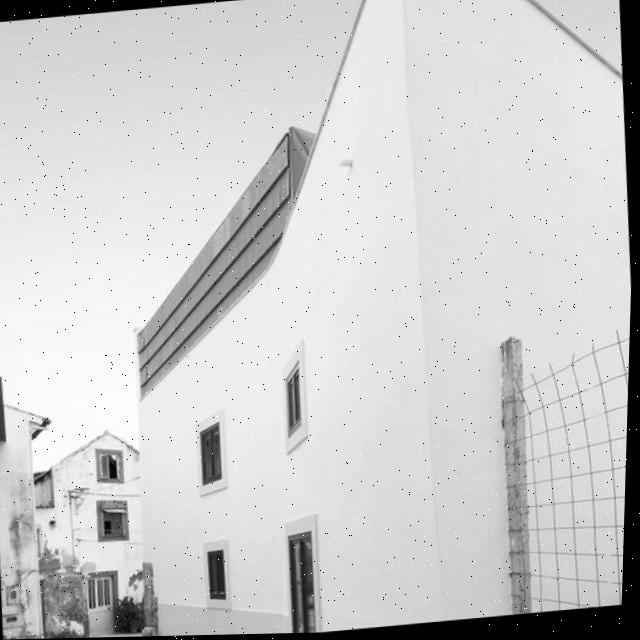building: (100, 0, 640, 620), (25, 421, 154, 639), (0, 366, 68, 640)
